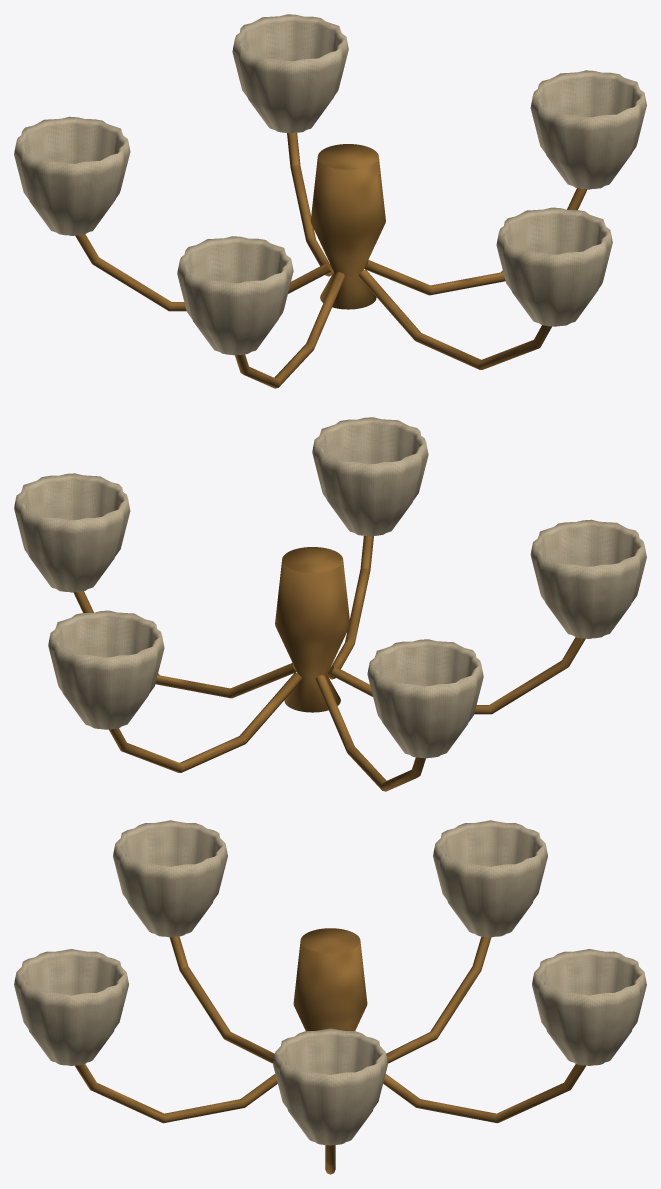
File: Chandelier.fbx
3 views of the same model, one above another, from view 1: azimuth 30°, elevation 25°; view 2: azimuth 150°, elevation 25°; view 3: azimuth 270°, elevation 25° (orthographic).
Visible parts, largest first — view 1: Chandelier_Glow, Chandelier_Brass; view 2: Chandelier_Glow, Chandelier_Brass; view 3: Chandelier_Glow, Chandelier_Brass.
Part boxes in pixels (x1,y1,x2,y2): Chandelier_Glow: (14,14,646,355); Chandelier_Brass: (75,133,587,388); Chandelier_Glow: (14,417,646,758); Chandelier_Brass: (73,536,585,791); Chandelier_Glow: (14,820,646,1145); Chandelier_Brass: (75,928,585,1174).
Size of the model in its own units: 132 by 39.07 by 137.
